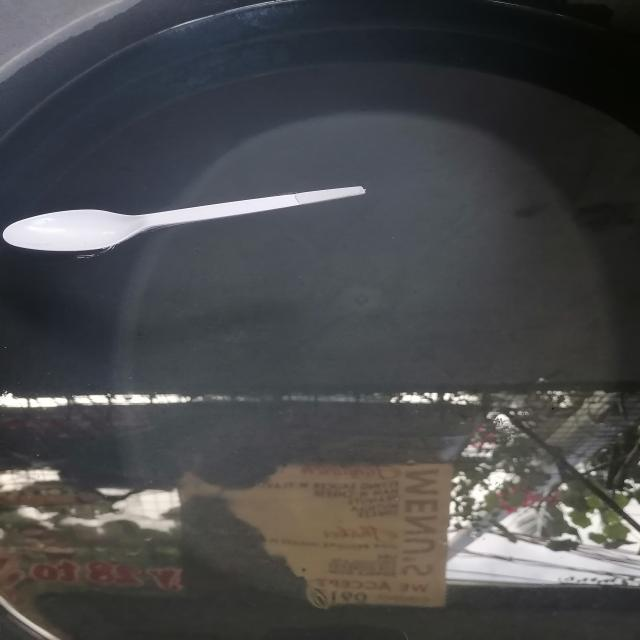Plastic Spoon: (0, 168, 380, 266)
